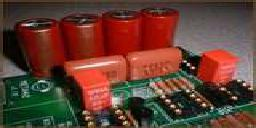Electrolytic Capacitor: (18, 14, 65, 69), (140, 4, 182, 55), (61, 12, 103, 58)
